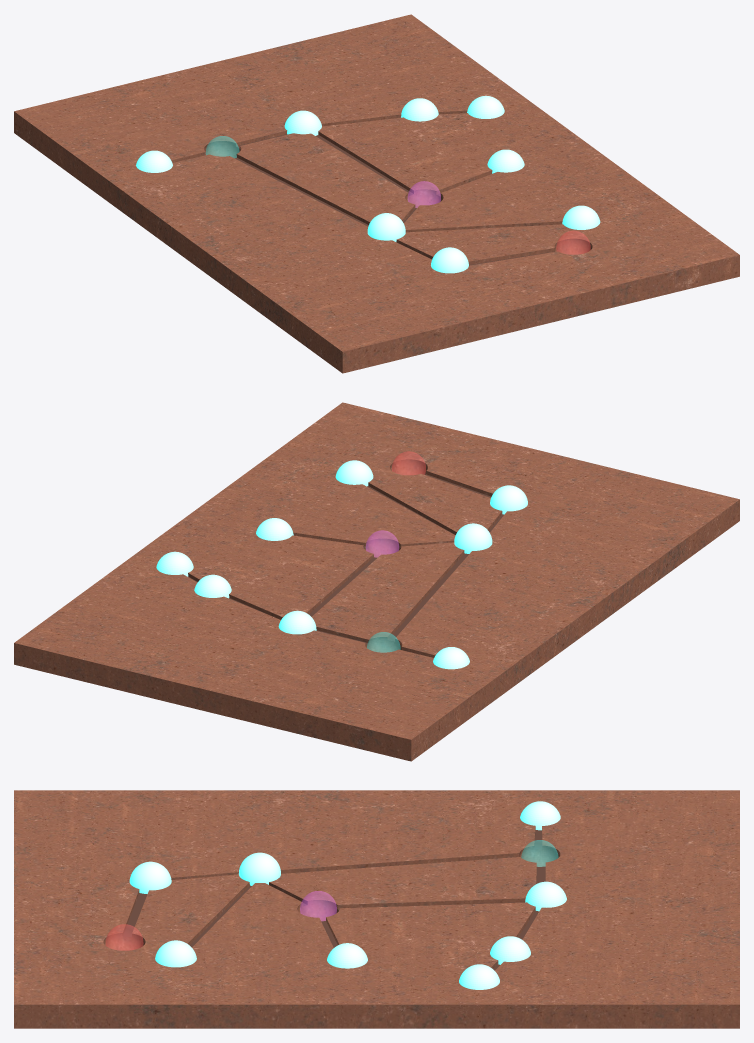
Rendered from constellation puzzle.glb.
3 renders of one model, top to bottom at view 1: azimuth 30°, elevation 25°; view 2: azimuth 150°, elevation 25°; view 3: azimuth 270°, elevation 25°, orthographic. The views are drawn at different scales.
Visible parts, largest first — view 1: canvas, lines, purple gem, red gem; view 2: canvas, lines, purple gem, red gem; view 3: canvas, lines, purple gem, red gem, green gem.
Part boxes in pixels (x1,y1,x2,y2): canvas: (14,14,739,373); lines: (235,134,554,265); purple gem: (408,181,440,207); red gem: (556,231,590,254); canvas: (14,402,739,761); lines: (188,474,503,645); purple gem: (366,530,398,557); red gem: (392,451,425,474); canvas: (14,790,739,1028); lines: (123,830,545,970); purple gem: (300,891,336,920); red gem: (106,924,143,950); green gem: (521,840,558,866).
Bounding box in the file's own units: 5.68 × 0.5439 × 8.14.
6 materials, 1 textured.
